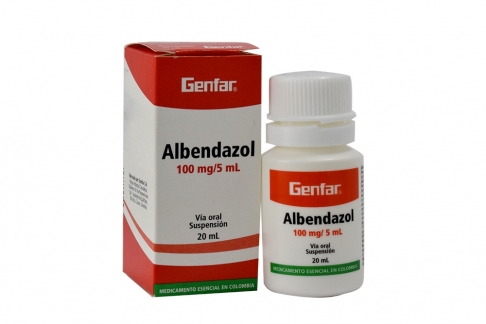Genfar: (157, 55, 258, 302)
